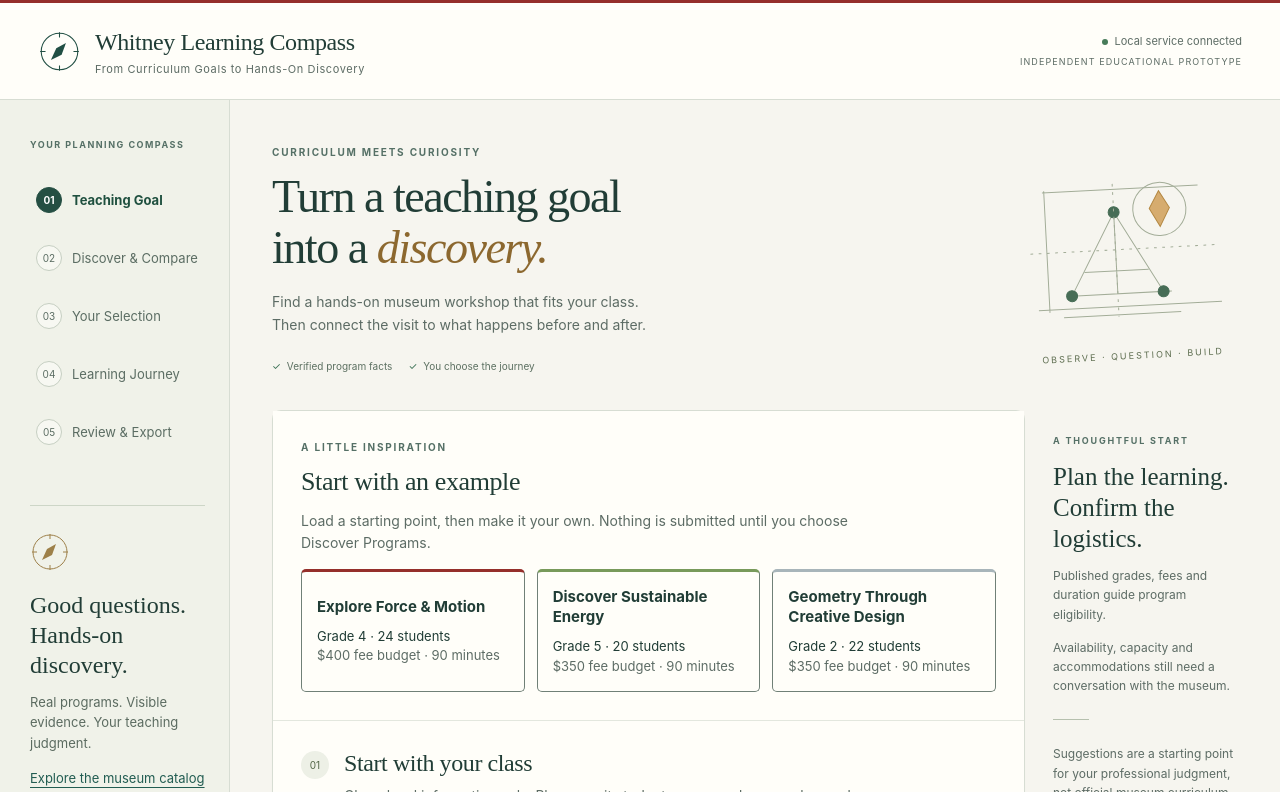
Test: loads Discover Sustainable Energy into actual editable intake without inference or consent
The width and height of the screenshot is (1280, 792).
Click the button with aria-label "Load Discover Sustainable Energy example". click: {"x": 649, "y": 630}
box: [537,569,760,692]
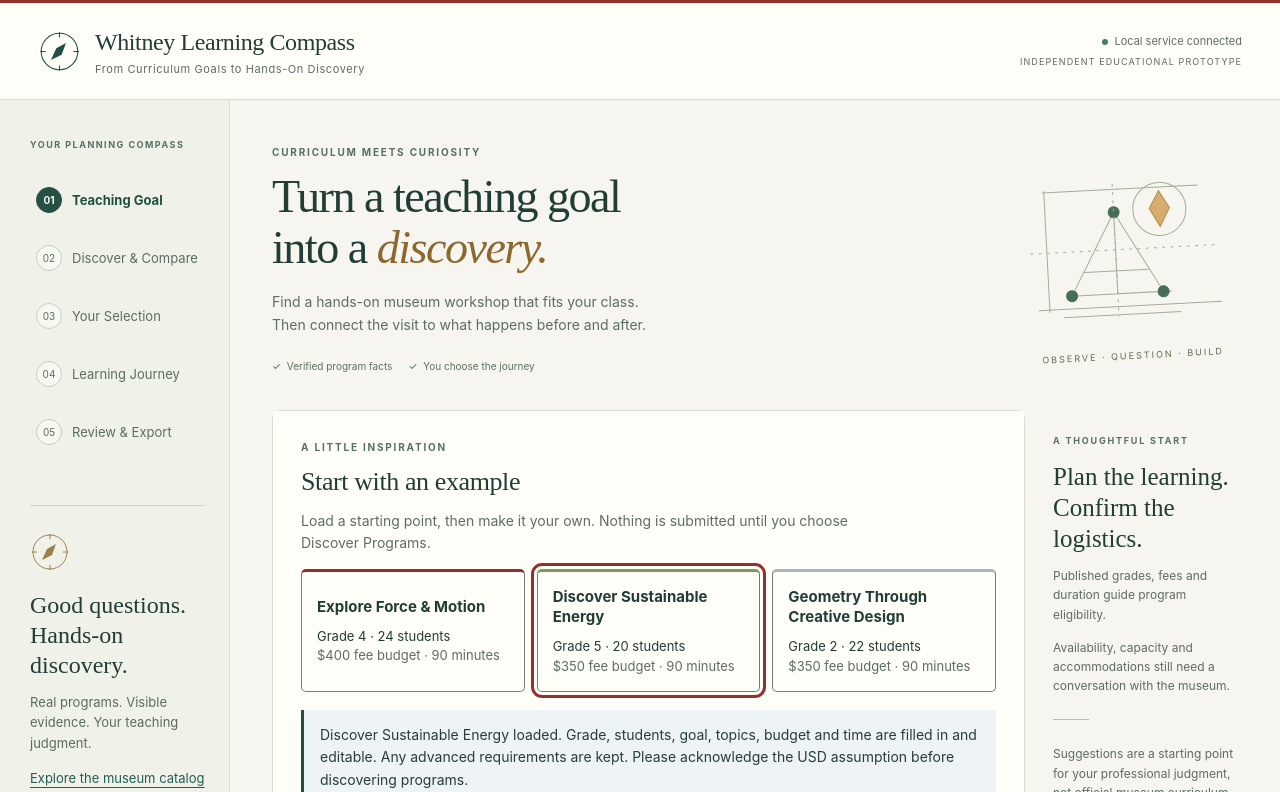
Result: the message shows "filled in and editable" at [320,726,977,788]
